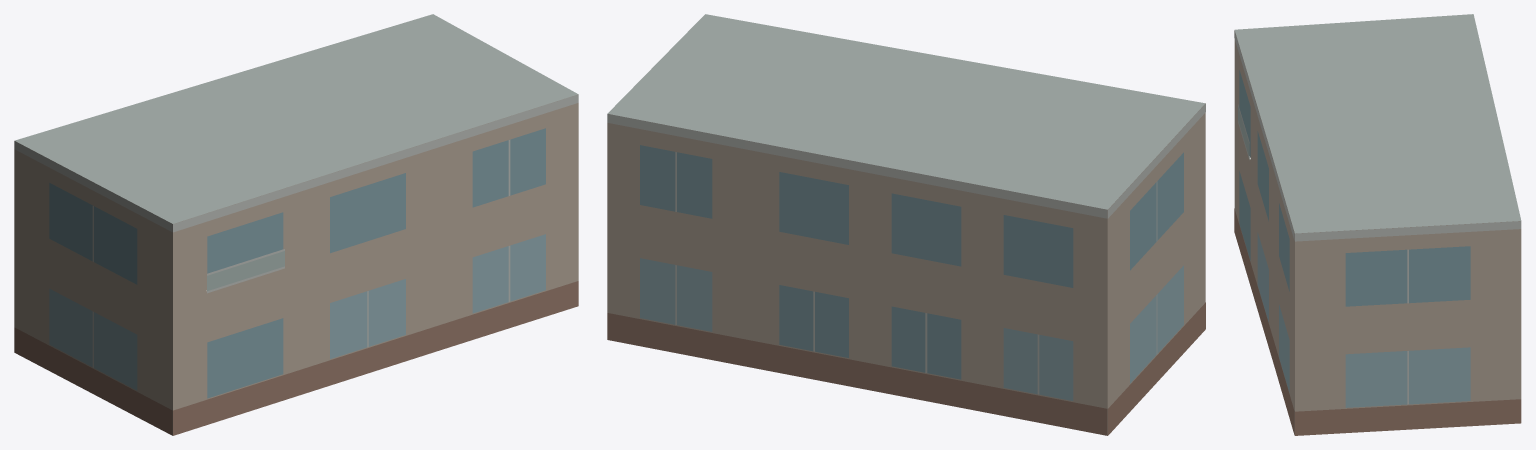
File: survey-upis-32889364.glb
3 views of the same model, side by side, from view 1: azimuth 30°, elevation 25°; view 2: azimuth 150°, elevation 25°; view 3: azimuth 270°, elevation 25° (orthographic). The views are drawn at different scales.
Parts seen in each view (by area): view 1: survey-upis-32889364.tmp; view 2: survey-upis-32889364.tmp; view 3: survey-upis-32889364.tmp.
Part boxes in pixels (x1,y1,x2,y2): survey-upis-32889364.tmp: (14,14,578,435); survey-upis-32889364.tmp: (607,14,1205,435); survey-upis-32889364.tmp: (1234,14,1521,435).
Bounding box in the file's own units: 14.2 × 6.1 × 7.85.
